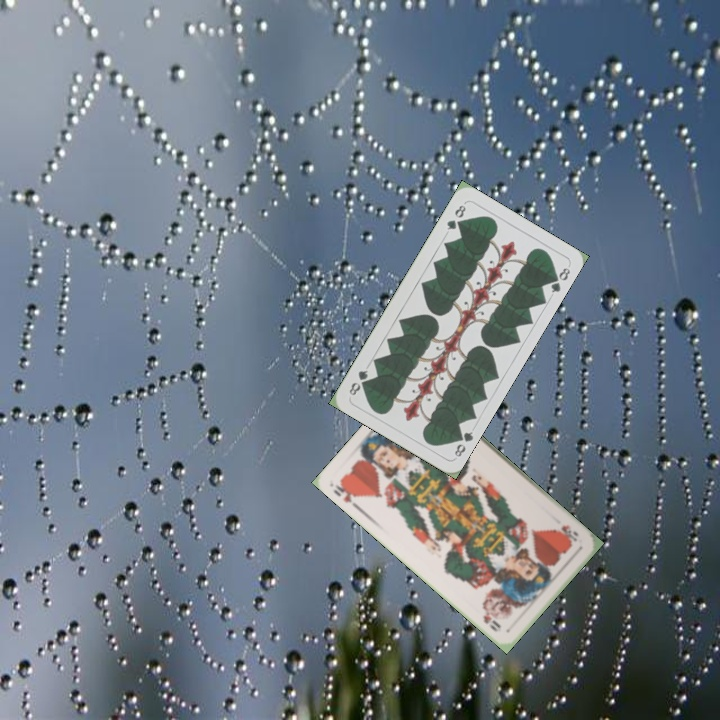G8: (450, 427, 476, 460), (443, 201, 469, 233)
HO: (329, 477, 362, 512), (557, 521, 581, 544)
